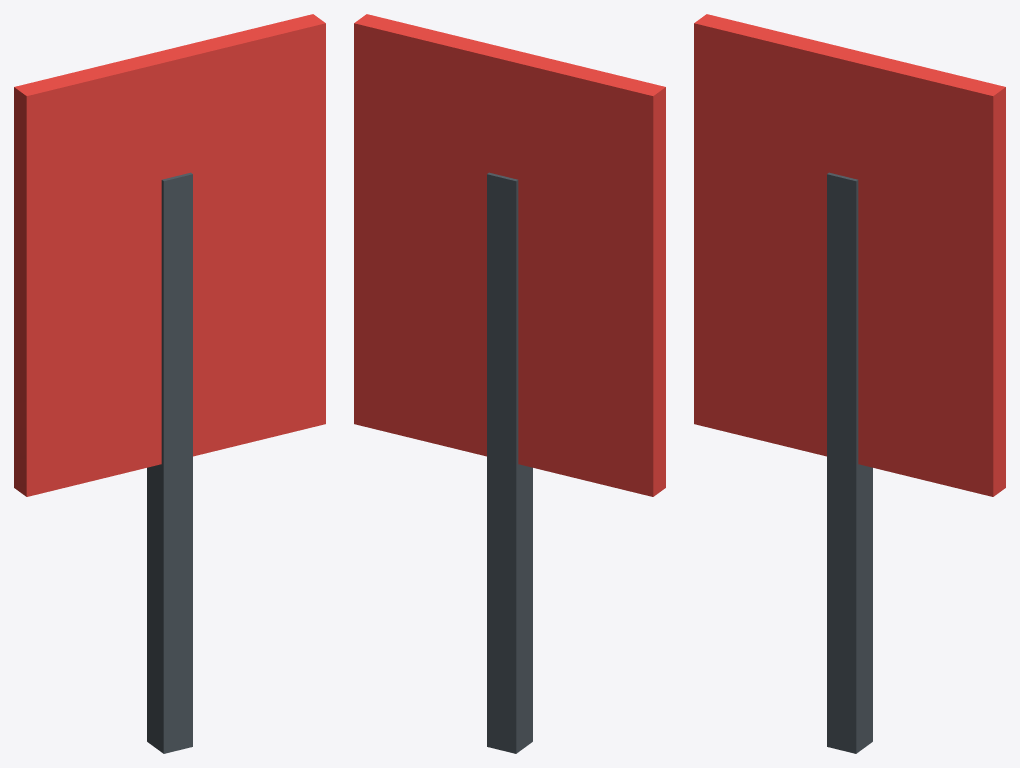
File: prop.range_target_silhouette.glb
3 renders of one model, left to right at view 1: azimuth 30°, elevation 25°; view 2: azimuth 150°, elevation 25°; view 3: azimuth 330°, elevation 25°, orthographic.
Visible parts, largest first — view 1: target_body, target_post; view 2: target_body, target_post; view 3: target_body, target_post.
Part boxes in pixels (<box>): target_body: <box>14,14,325,496</box>; target_post: <box>147,172,192,753</box>; target_body: <box>354,14,665,496</box>; target_post: <box>487,172,532,753</box>; target_body: <box>694,14,1005,496</box>; target_post: <box>827,172,872,753</box>.
Bounding box in the file's own units: 0.82 × 1.8 × 0.08.
